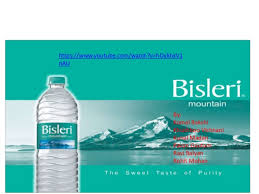Bisleri: (40, 126, 78, 136)
